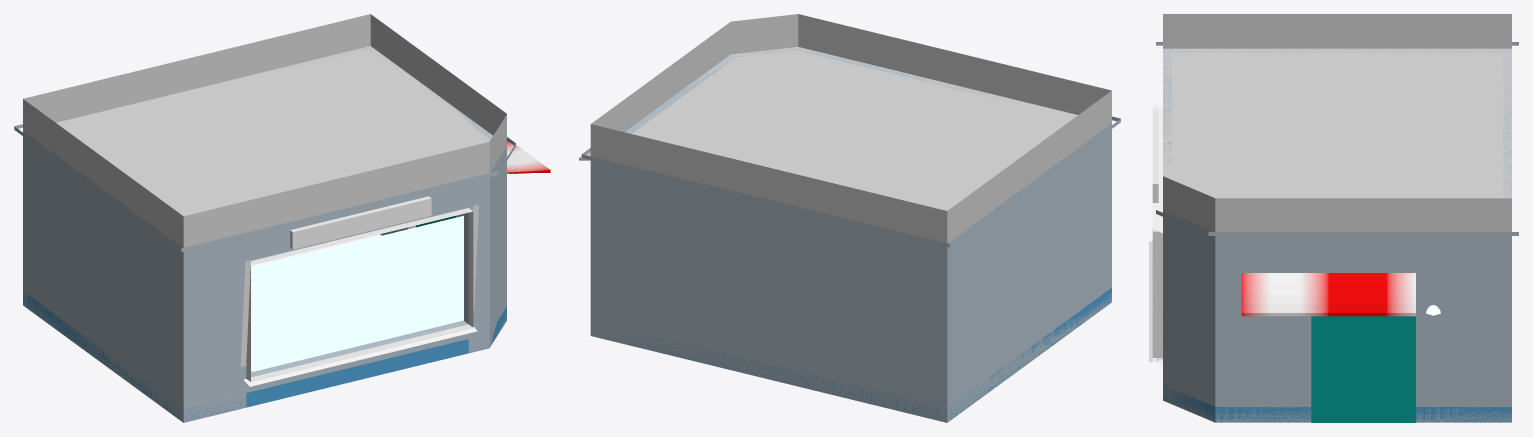
The model's file is Building_1_2.glb.
The picture shows the model from 3 angles, left to right: view 1: azimuth 30°, elevation 25°; view 2: azimuth 150°, elevation 25°; view 3: azimuth 270°, elevation 25°; orthographic projection. The views are drawn at different scales.
Visible parts, largest first — view 1: Roof, Walls, Window, Sign, Awning; view 2: Walls, Roof; view 3: Roof, Walls, Door, Awning, Window, Sign.
Part boxes in pixels (left/top/right/bottom): Roof: left=23, top=14, right=506, bottom=247; Walls: left=14, top=46, right=515, bottom=422; Window: left=240, top=204, right=478, bottom=386; Sign: left=290, top=196, right=431, bottom=249; Awning: left=507, top=140, right=550, bottom=173; Walls: left=581, top=47, right=1120, bottom=422; Roof: left=590, top=14, right=1111, bottom=243; Roof: left=1163, top=14, right=1511, bottom=231; Walls: left=1156, top=42, right=1518, bottom=422; Door: left=1311, top=316, right=1415, bottom=422; Awning: left=1241, top=273, right=1415, bottom=316; Window: left=1149, top=104, right=1162, bottom=365; Sign: left=1152, top=110, right=1158, bottom=202.
Size of the model in its own units: 2.94 by 1.42 by 2.12.
